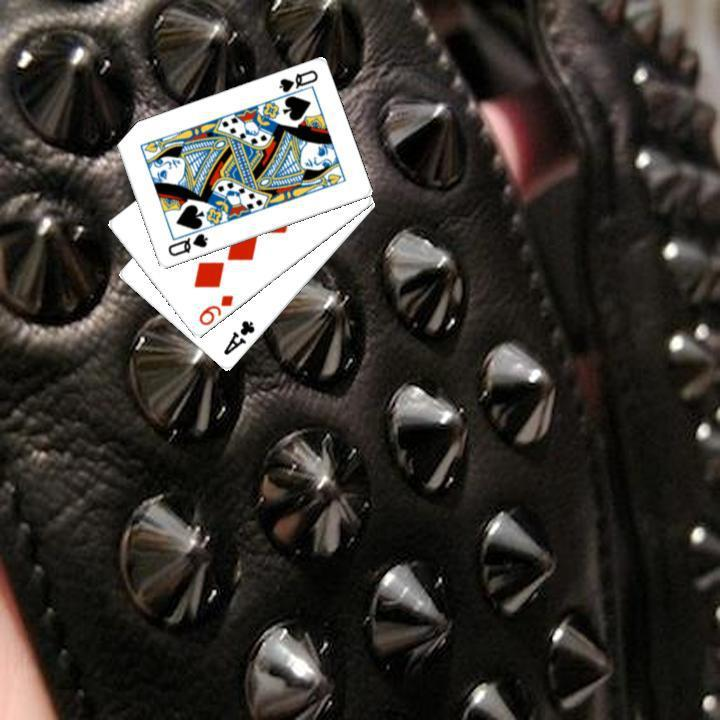9: (194, 291, 235, 328)
A: (219, 316, 257, 357)
Q: (163, 229, 210, 259), (274, 66, 320, 95)
